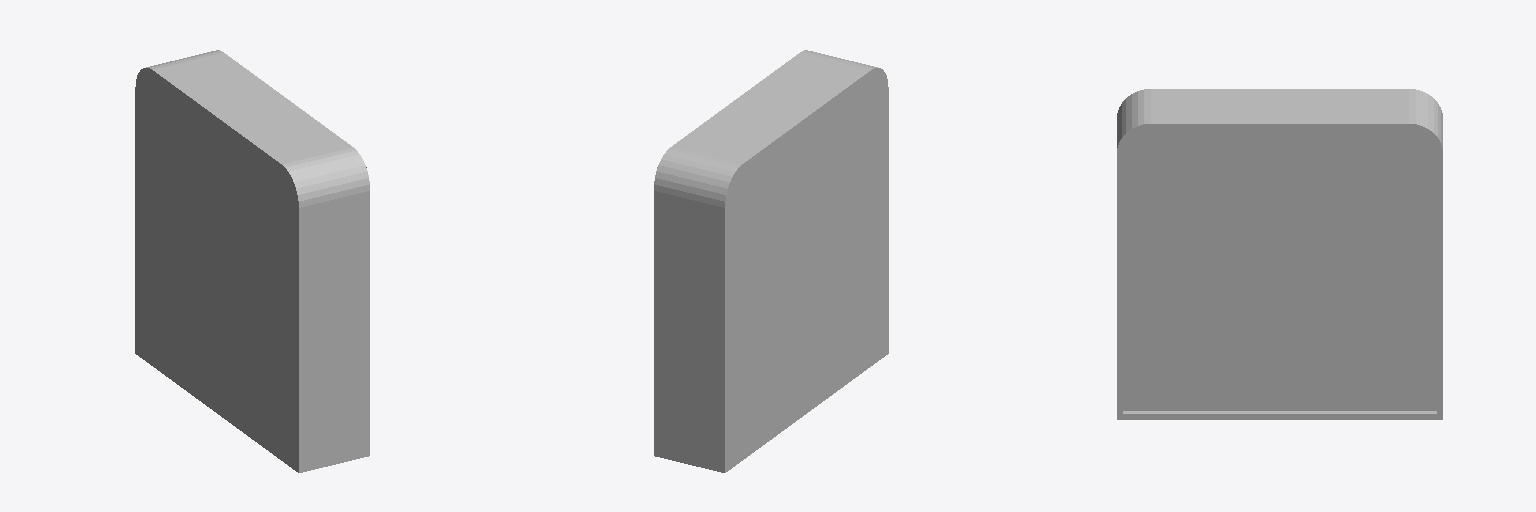
Rendered from gmail.obj.
The picture shows the model from 3 angles: view 1: azimuth 30°, elevation 25°; view 2: azimuth 150°, elevation 25°; view 3: azimuth 270°, elevation 25°; orthographic projection.
Visible parts, largest first — view 1: mailmodel_Cube.003; view 2: mailmodel_Cube.003; view 3: gmail, mailmodel_Cube.003.
Part boxes in pixels (left/top/right/bottom): mailmodel_Cube.003: left=135, top=50, right=369, bottom=472; mailmodel_Cube.003: left=654, top=50, right=888, bottom=472; gmail: left=1135, top=143, right=1424, bottom=406; mailmodel_Cube.003: left=1117, top=89, right=1442, bottom=419.
Bounding box in the file's own units: 0.1908 × 0.6961 × 0.6961.